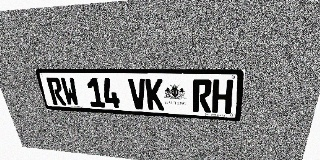1: (85, 78, 105, 107)
4: (101, 78, 121, 108)
H: (212, 79, 233, 114)
K: (145, 79, 164, 110)
R: (193, 79, 212, 113), (46, 77, 66, 105)
V: (128, 78, 147, 110)
W: (60, 77, 80, 106)
